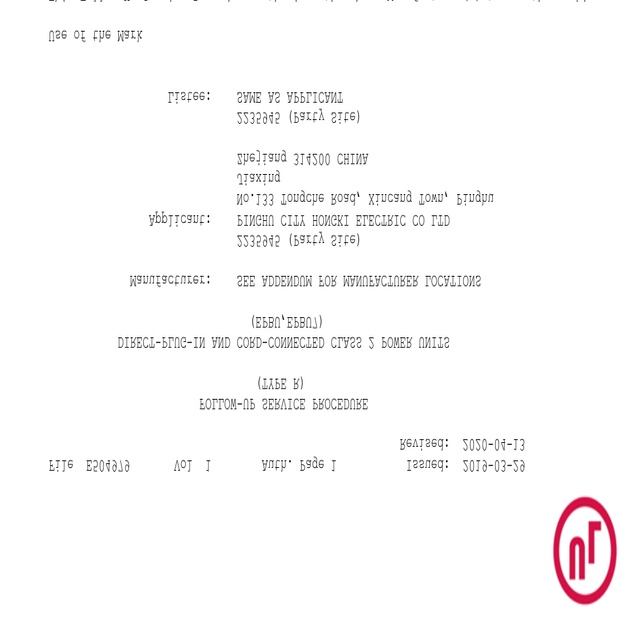ul: (552, 494, 617, 606)
